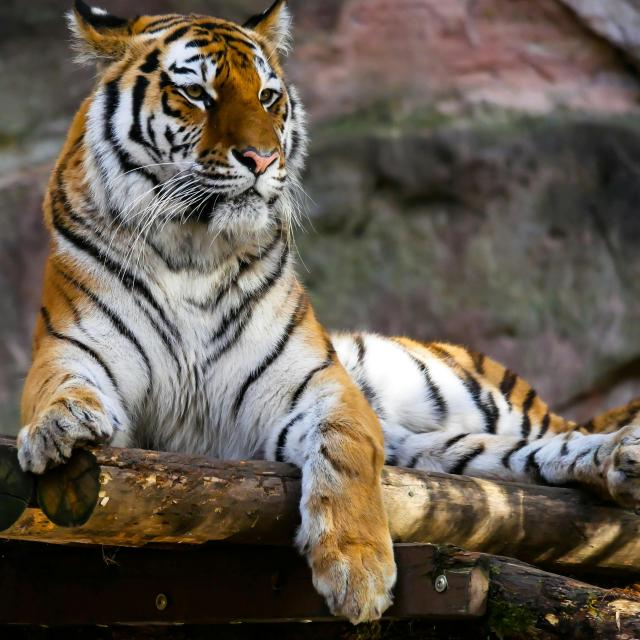Tiger: (13, 0, 640, 621)
